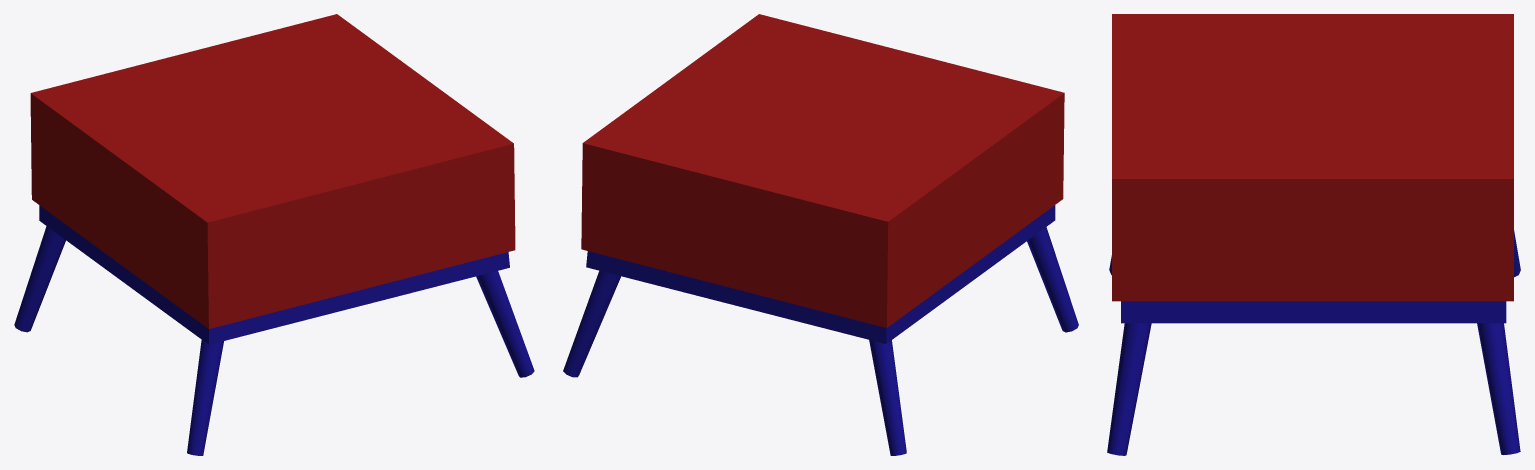
Rendered from SM_ReposePied.FBX.
The picture shows the model from 3 angles, left to right: view 1: azimuth 30°, elevation 25°; view 2: azimuth 150°, elevation 25°; view 3: azimuth 270°, elevation 25°; orthographic projection. The views are drawn at different scales.
Visible parts, largest first — view 1: SM_ReposePied; view 2: SM_ReposePied; view 3: SM_ReposePied.
Boxes of the visible parts, x1,y1,x2,y2 form: SM_ReposePied: (14,14,534,455); SM_ReposePied: (563,14,1078,455); SM_ReposePied: (1107,14,1520,455).
Size of the model in its own units: 67.51 by 44.58 by 61.74.
